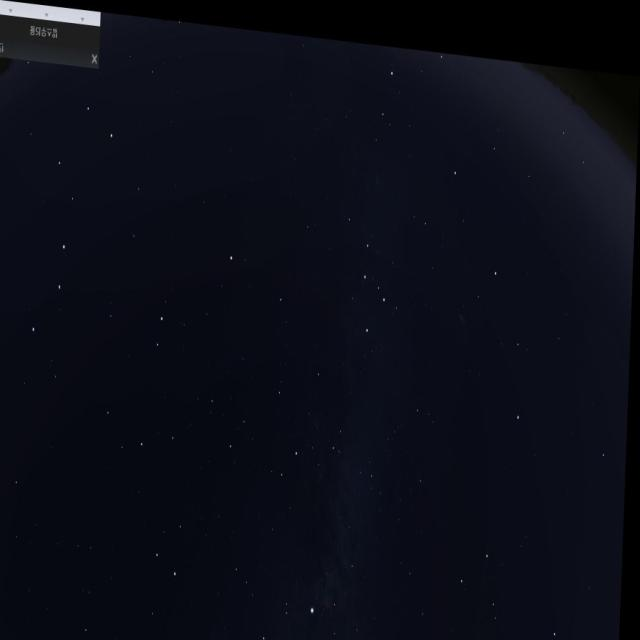cassiopeia: (337, 188, 402, 338)
ursa_major: (27, 80, 120, 356)
